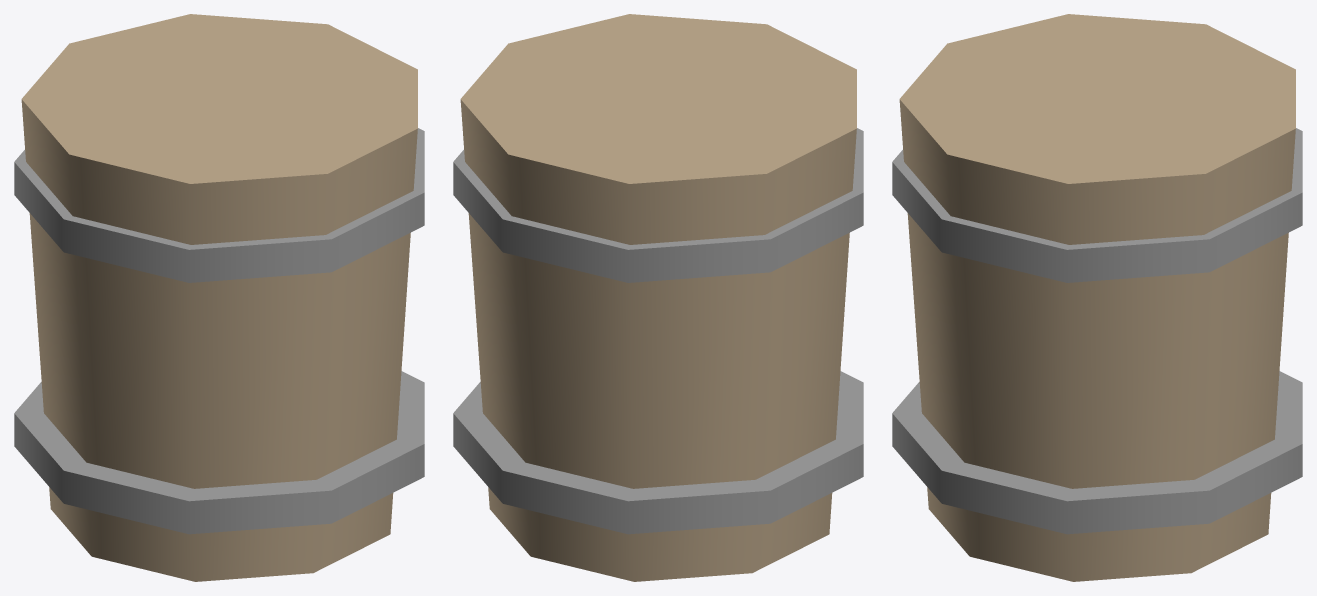
The model's file is barrel.glb.
The picture shows the model from 3 angles, left to right: view 1: azimuth 30°, elevation 25°; view 2: azimuth 150°, elevation 25°; view 3: azimuth 270°, elevation 25°; orthographic projection.
Parts seen in each view (by area): view 1: barrel; view 2: barrel; view 3: barrel.
Part boxes in pixels (bbox=[...]): barrel: bbox=[14, 14, 424, 581]; barrel: bbox=[453, 14, 863, 581]; barrel: bbox=[892, 14, 1302, 581].
Size of the model in its own units: 0.5712 by 0.62 by 0.5625.
